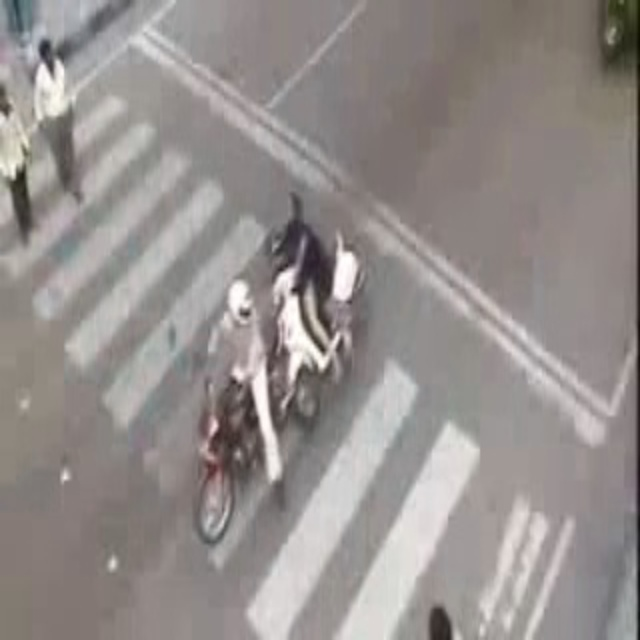acc: (185, 184, 363, 550)
